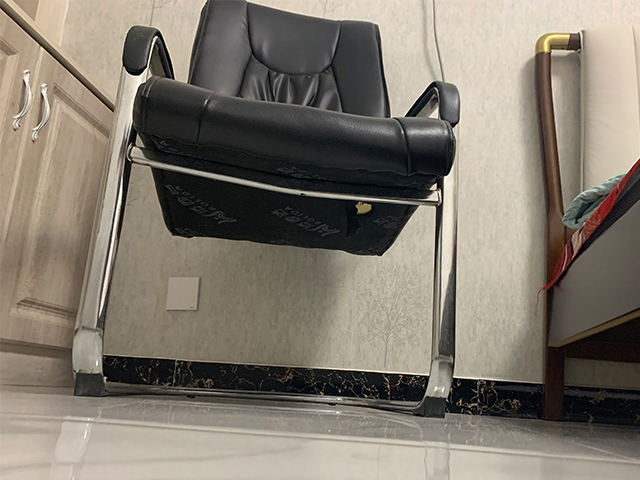bed: (534, 22, 640, 423)
cabinet: (1, 1, 116, 389)
stool: (71, 1, 463, 420)
